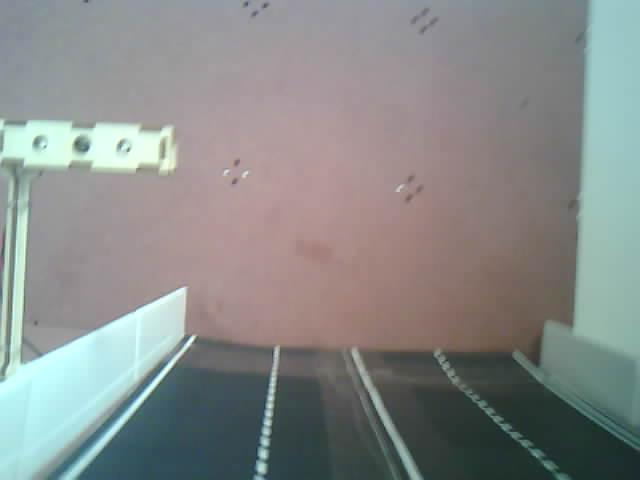no: (0, 86, 187, 374)
